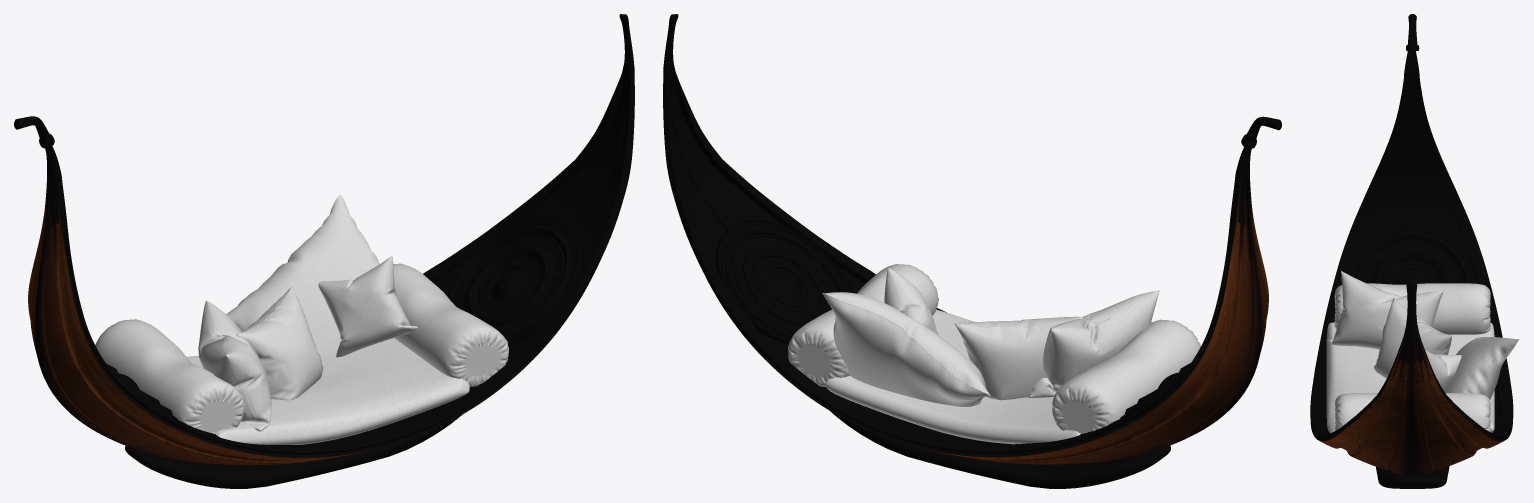
The model's file is boatsofa_1.glb.
3 views of the same model, side by side, from view 1: azimuth 30°, elevation 25°; view 2: azimuth 150°, elevation 25°; view 3: azimuth 270°, elevation 25° (orthographic). The views are drawn at different scales.
Visible parts, largest first — view 1: pCylinder2, pasted__Cylinder003; view 2: pCylinder2, pasted__Cylinder003; view 3: pCylinder2, pasted__Cylinder003.
Boxes of the visible parts, x1,y1,x2,y2 form: pCylinder2: (14, 14, 634, 488); pasted__Cylinder003: (95, 194, 508, 444); pCylinder2: (663, 14, 1281, 488); pasted__Cylinder003: (788, 264, 1200, 444); pCylinder2: (1310, 14, 1513, 488); pasted__Cylinder003: (1326, 271, 1519, 433).
Bounding box in the file's own units: 0.5996 × 0.3808 × 0.2212.
Materials: 2 (2 with a texture image).
